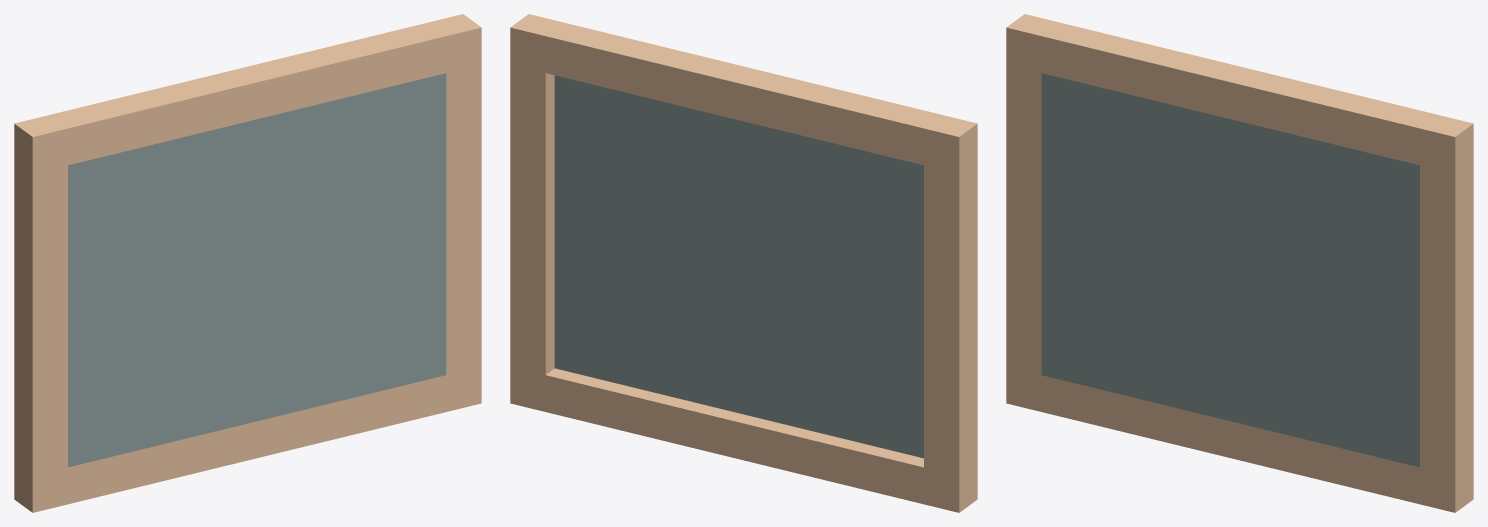
The model's file is diner_chalkboard.glb.
The picture shows the model from 3 angles, left to right: view 1: azimuth 30°, elevation 25°; view 2: azimuth 150°, elevation 25°; view 3: azimuth 330°, elevation 25°; orthographic projection.
Parts seen in each view (by area): view 1: chalkboard_surface, chalkboard_frame_top, chalkboard_frame_bottom, chalkboard_frame_left, chalkboard_frame_right; view 2: chalkboard_surface, chalkboard_frame_top, chalkboard_frame_bottom, chalkboard_frame_left, chalkboard_frame_right; view 3: chalkboard_surface, chalkboard_frame_top, chalkboard_frame_bottom, chalkboard_frame_right, chalkboard_frame_left.
Part boxes in pixels (x1,y1,x2,y2): chalkboard_surface: (68,73,446,467); chalkboard_frame_top: (14,14,481,173); chalkboard_frame_bottom: (14,366,481,512); chalkboard_frame_left: (14,161,67,475); chalkboard_frame_right: (446,64,481,374); chalkboard_surface: (554,75,923,458); chalkboard_frame_top: (510,14,977,173); chalkboard_frame_bottom: (510,366,977,512); chalkboard_frame_left: (924,161,977,475); chalkboard_frame_right: (510,64,554,374); chalkboard_surface: (1041,73,1419,467); chalkboard_frame_top: (1006,14,1473,173); chalkboard_frame_bottom: (1006,366,1473,512); chalkboard_frame_right: (1420,161,1473,475); chalkboard_frame_left: (1006,64,1041,374).
Bounding box in the file's own units: 0.7 × 0.56 × 0.05.
